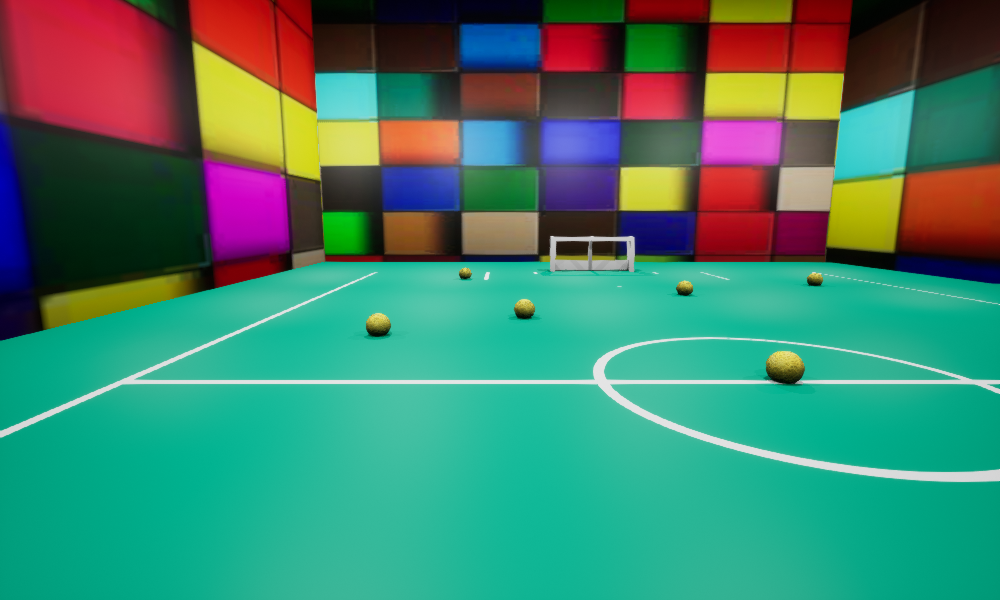b: (766, 351, 804, 382), (366, 313, 390, 335), (514, 299, 534, 318), (676, 280, 692, 294), (807, 273, 822, 285), (459, 267, 471, 278)
g: (550, 236, 634, 271)
